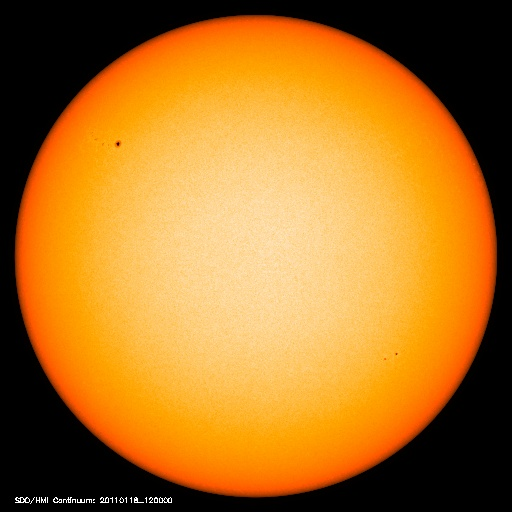sunspot: (87, 129, 127, 156)
